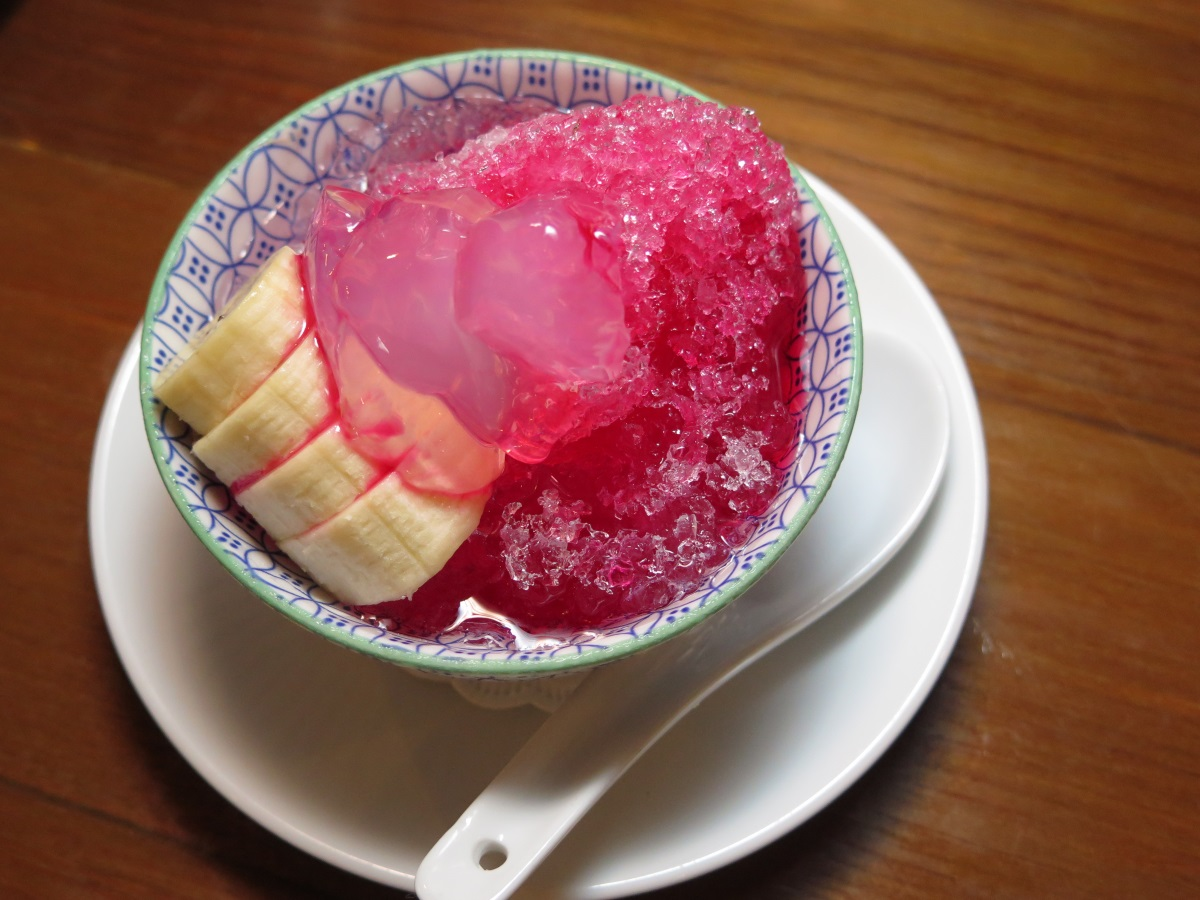O-eo: (156, 61, 854, 666)
